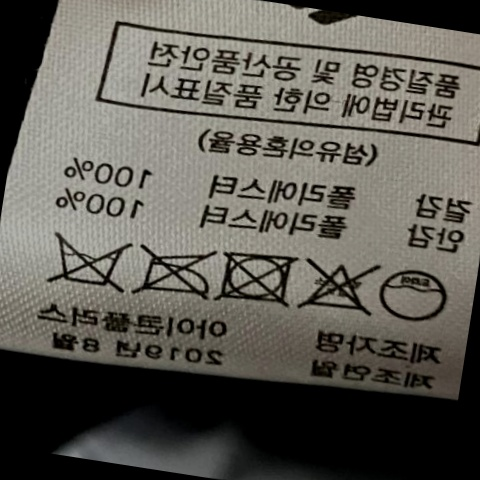DN_bleach: (300, 255, 373, 322)
DN_iron: (133, 240, 219, 306)
DN_tumble_dry: (216, 243, 296, 311)
DN_wash: (42, 224, 133, 297)
dry_clean: (375, 263, 451, 332)
